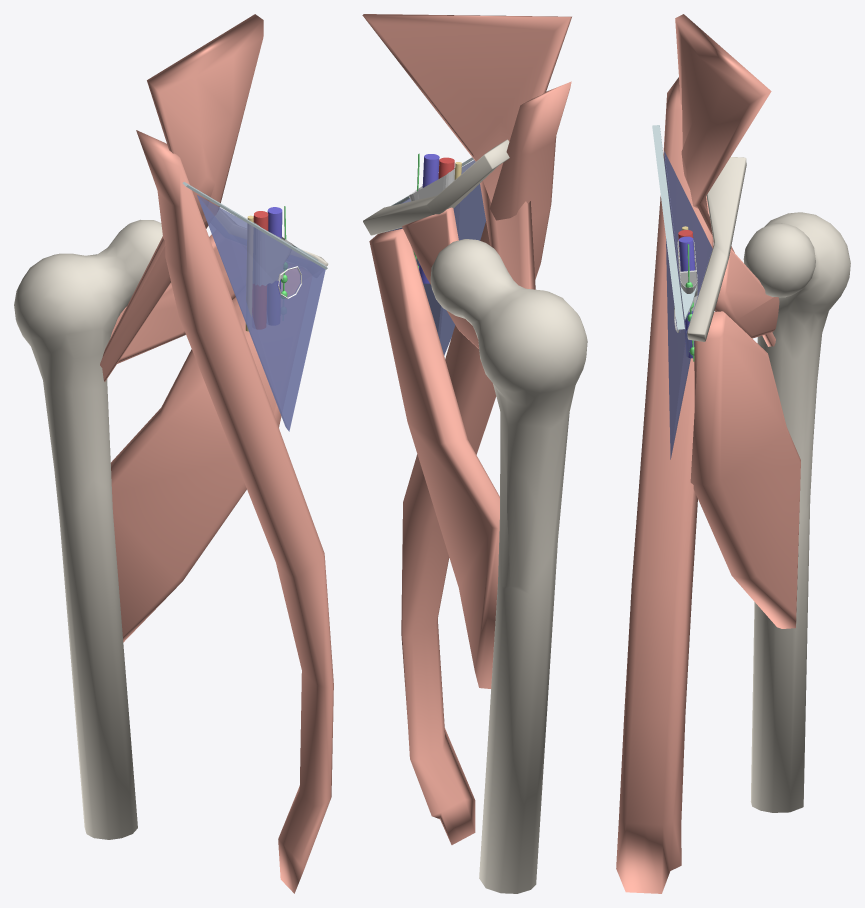
File: femoral-canal.glb
3 views of the same model, side by side, from view 1: azimuth 30°, elevation 25°; view 2: azimuth 150°, elevation 25°; view 3: azimuth 270°, elevation 25° (orthographic). The views are drawn at different scales.
Visible parts, largest first — view 1: Femur, Sartorius, Adductor Longus, Iliopsoas, Femoral Triangle, Pectineus, Femoral Sheath, Femoral Vein, Femoral Artery, Inguinal Ligament; view 2: Femur, Sartorius, Adductor Longus, Iliopsoas, Section of Pubis, Pectineus, Femoral Triangle, Femoral Sheath, Femoral Vein; view 3: Sartorius, Femur, Adductor Longus, Iliopsoas, Femoral Triangle, Section of Pubis, Pectineus, Inguinal Ligament, Femoral Vein, Femoral Sheath.
Boxes of the visible parts, x1,y1,x2,y2 form: Femur: [14, 219, 162, 839]; Sartorius: [136, 130, 333, 893]; Adductor Longus: [111, 268, 299, 642]; Iliopsoas: [100, 14, 263, 381]; Femoral Triangle: [197, 195, 325, 431]; Pectineus: [110, 234, 235, 363]; Femoral Sheath: [253, 222, 293, 285]; Femoral Vein: [267, 207, 282, 325]; Femoral Artery: [252, 211, 268, 329]; Inguinal Ligament: [182, 182, 327, 269]; Femur: [430, 239, 587, 893]; Sartorius: [401, 81, 571, 844]; Adductor Longus: [369, 228, 499, 688]; Iliopsoas: [362, 14, 571, 289]; Section of Pubis: [363, 139, 509, 235]; Pectineus: [402, 207, 479, 348]; Femoral Triangle: [385, 160, 485, 355]; Femoral Sheath: [409, 168, 454, 201]; Femoral Vein: [419, 154, 439, 283]; Sartorius: [616, 77, 713, 893]; Femur: [743, 212, 850, 812]; Adductor Longus: [690, 311, 800, 628]; Iliopsoas: [675, 14, 775, 346]; Femoral Triangle: [664, 151, 712, 459]; Section of Pubis: [687, 157, 746, 341]; Pectineus: [714, 249, 779, 338]; Inguinal Ligament: [652, 125, 684, 329]; Femoral Vein: [678, 236, 695, 358]; Femoral Sheath: [677, 240, 697, 312].
Bounding box in the file's own units: 7.34 × 22.75 × 5.9.
